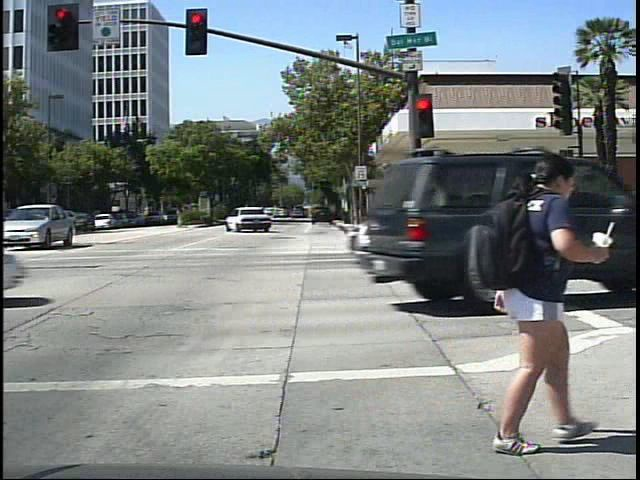person: (460, 128, 611, 459)
